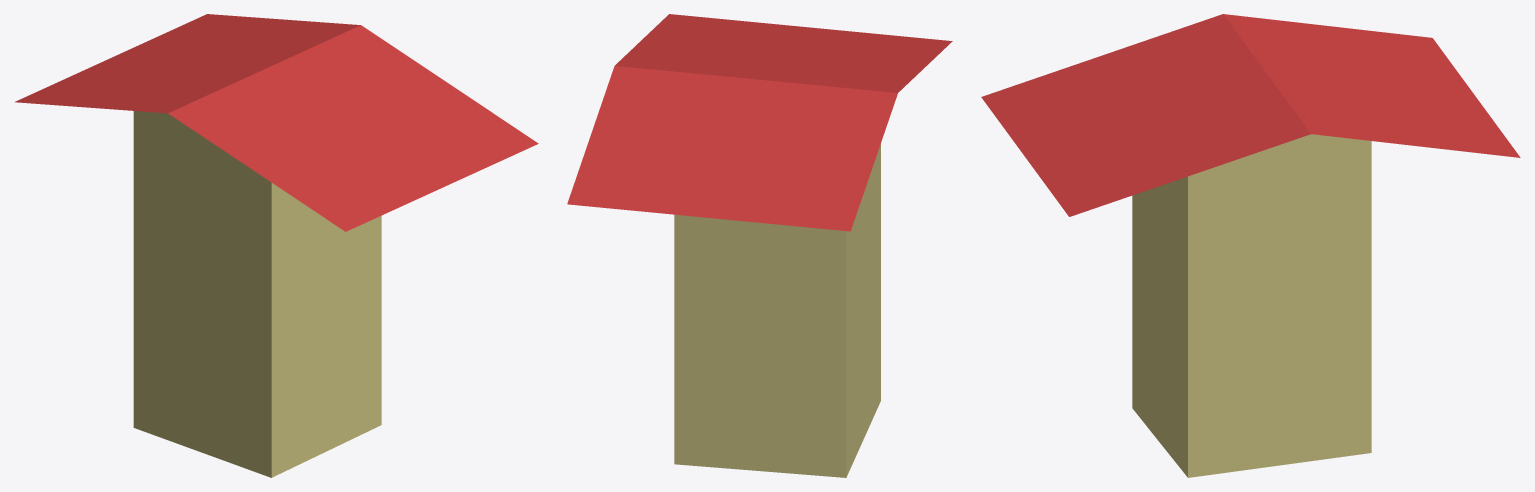
3 views of the same model, side by side, from view 1: azimuth 30°, elevation 25°; view 2: azimuth 150°, elevation 25°; view 3: azimuth 270°, elevation 25° (orthographic). The views are drawn at different scales.
Size of the model in its own units: 5.81 by 7.39 by 5.49.
